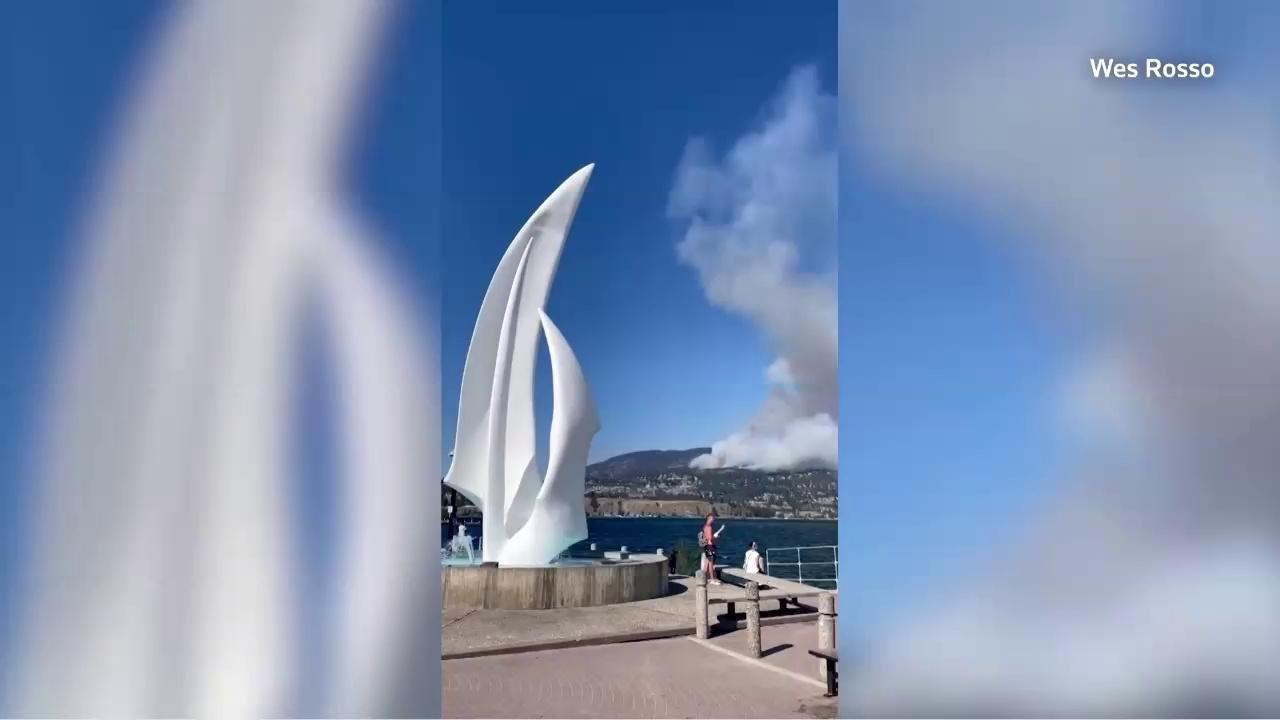smoke: (657, 59, 838, 484)
